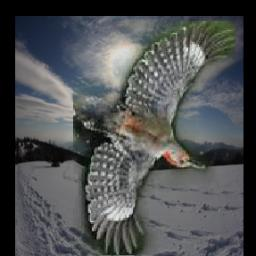Woodpecker: (73, 22, 235, 256)
